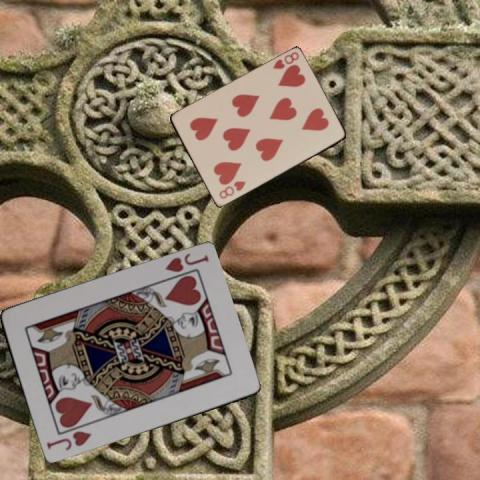8h: (216, 178, 247, 201), (269, 49, 300, 71)
Jh: (43, 428, 93, 453), (161, 251, 210, 274)
